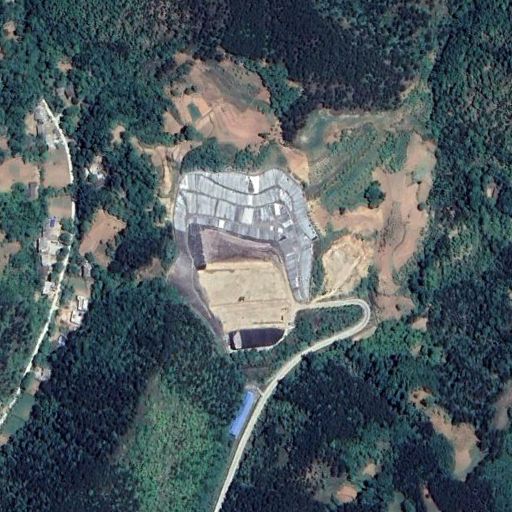lf: (173, 171, 309, 353)
